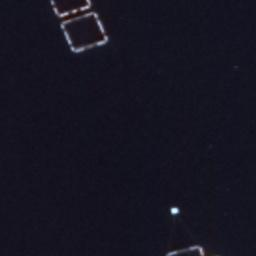square_solid: (57, 10, 114, 56), (45, 1, 96, 21)
